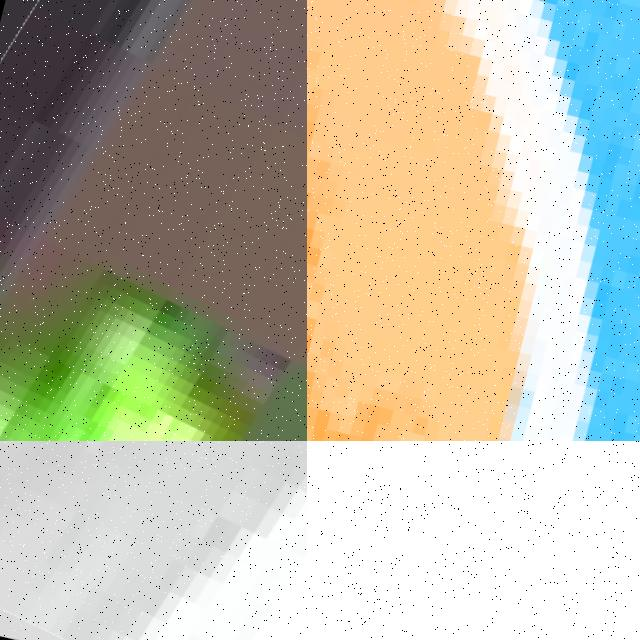drone: (0, 0, 307, 441), (0, 441, 307, 640)
